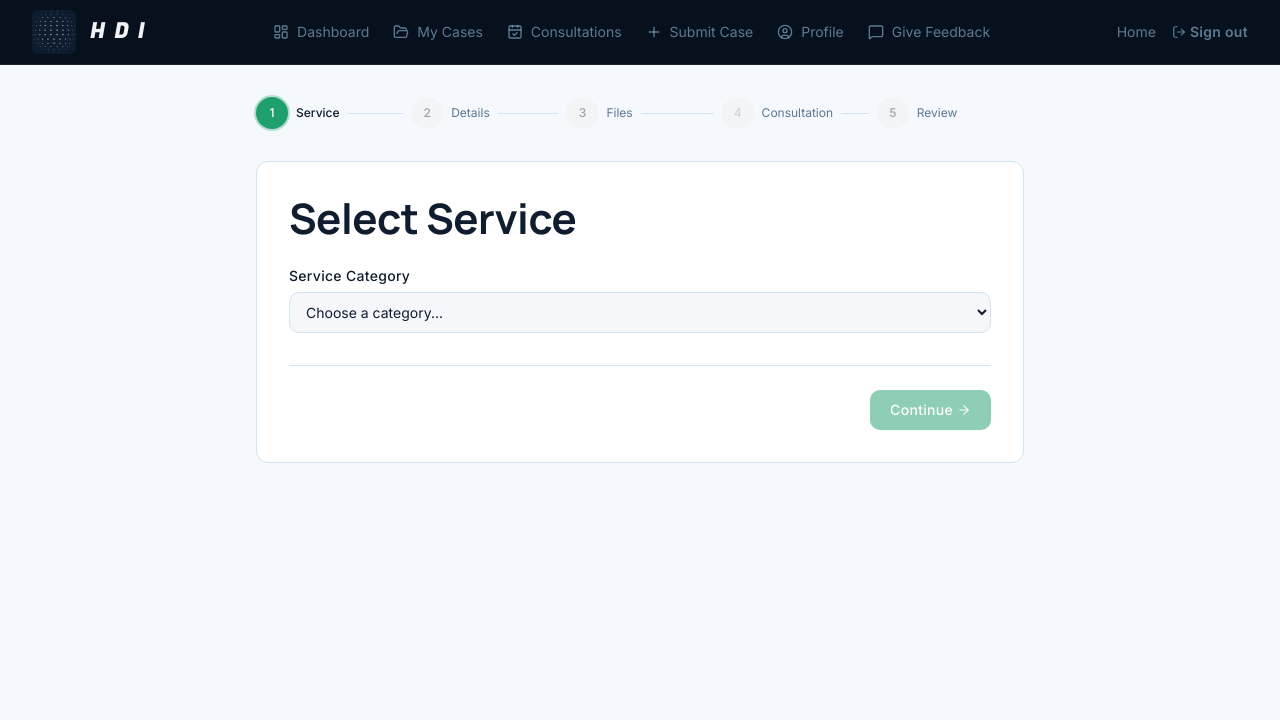
Test: SubmitCase — Step 1: Case Details › renders Case Details heading
The image size is (1280, 720).
Select "Surgical Guide" in the dropdown at (640, 313), box top-left (289, 292), bottom-right (991, 333)
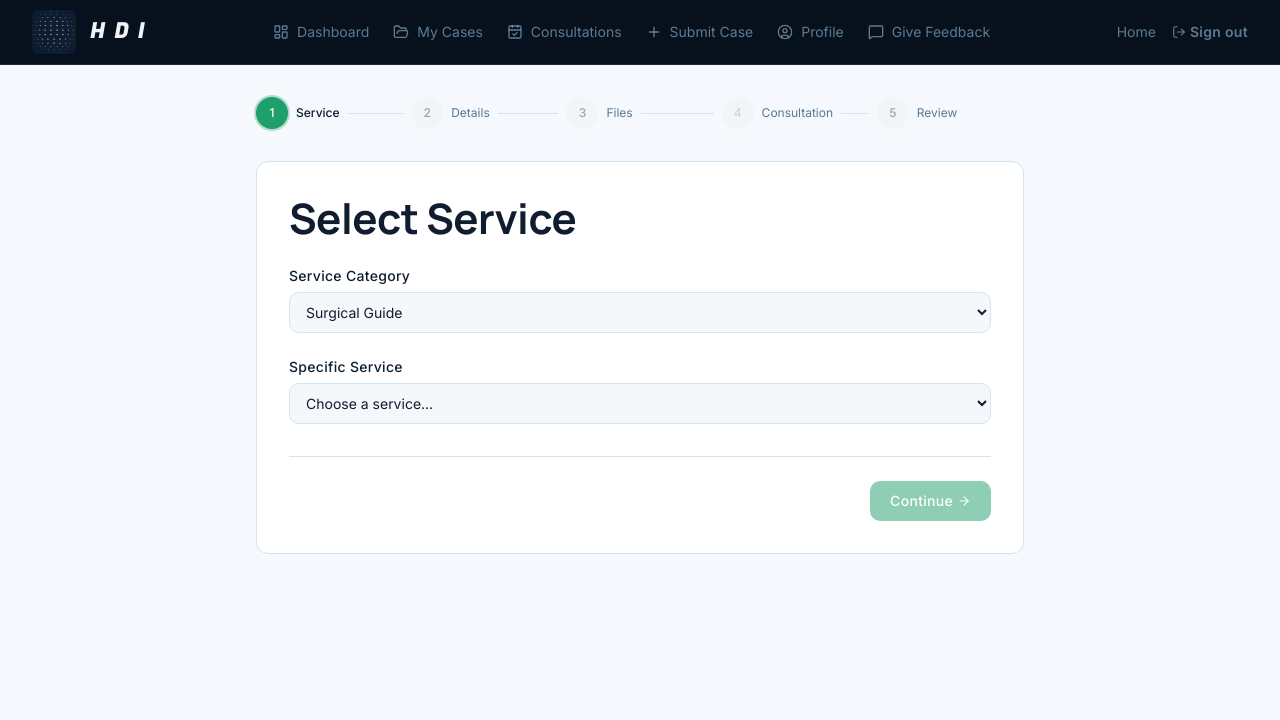
Select "SG01 — Surgical Guide Basic — $150.00" in the dropdown below "Specific Service" at (640, 404), box top-left (289, 383), bottom-right (991, 424)
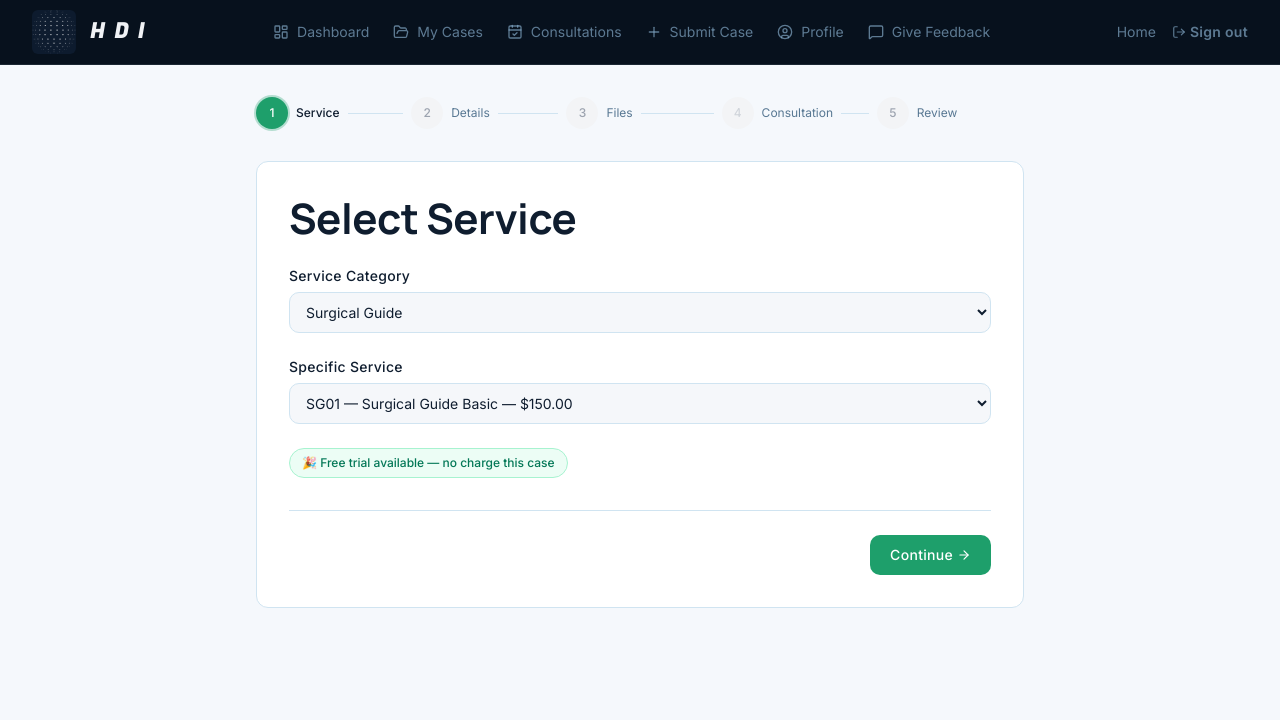
Click the button "Continue" at (931, 555), box top-left (870, 535), bottom-right (991, 575)
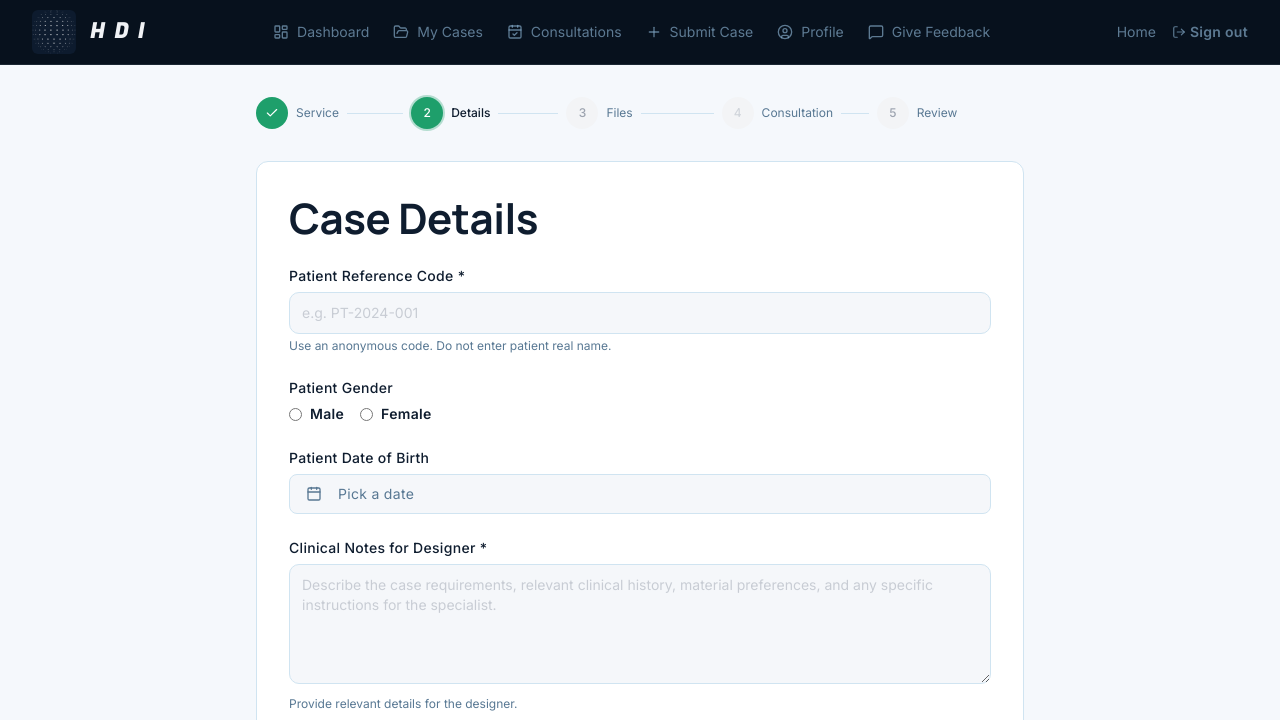
Expected: the heading "Case Details" is shown, top-left (289, 189), bottom-right (538, 247)
